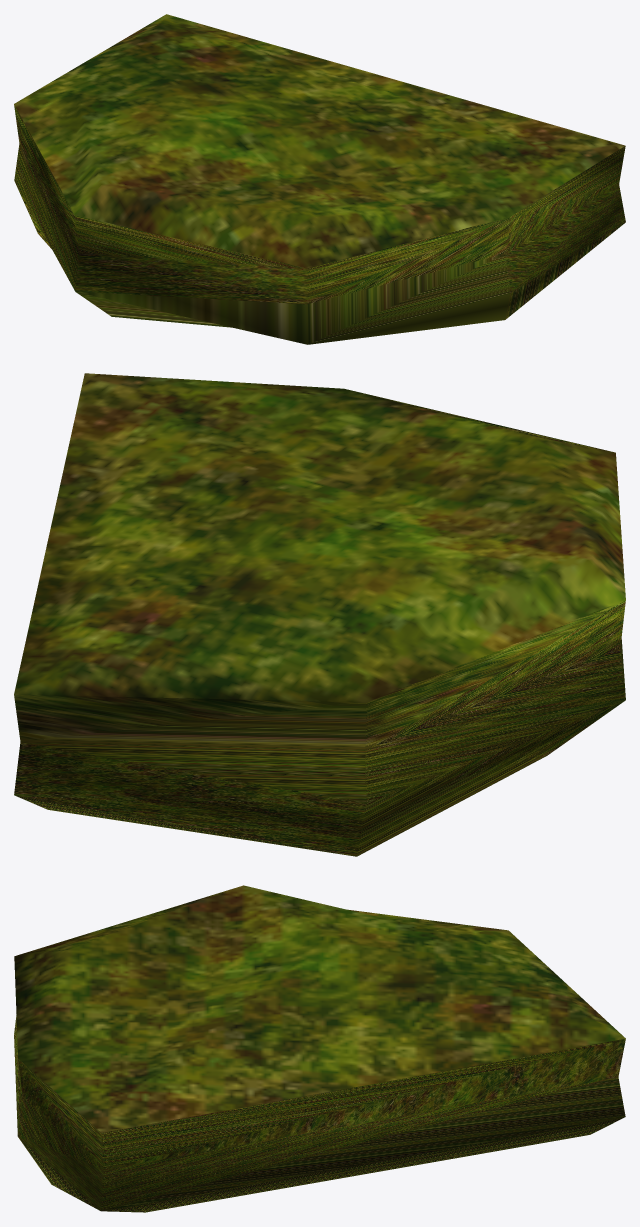
The model's file is TROLLHOLE02_RM_FALL_ROCK06.fbx.
3 views of the same model, one above another, from view 1: azimuth 30°, elevation 25°; view 2: azimuth 150°, elevation 25°; view 3: azimuth 270°, elevation 25° (orthographic). The views are drawn at different scales.
Visible parts, largest first — view 1: TROLLHOLE02_RM_FALL_ROCK06; view 2: TROLLHOLE02_RM_FALL_ROCK06; view 3: TROLLHOLE02_RM_FALL_ROCK06.
Boxes of the visible parts, bbox=[...] form: TROLLHOLE02_RM_FALL_ROCK06: bbox=[14, 14, 625, 344]; TROLLHOLE02_RM_FALL_ROCK06: bbox=[14, 373, 625, 856]; TROLLHOLE02_RM_FALL_ROCK06: bbox=[14, 885, 625, 1212].
Bounding box in the file's own units: 19711 × 7349 × 21238.
Materials: 1 (1 with a texture image).
